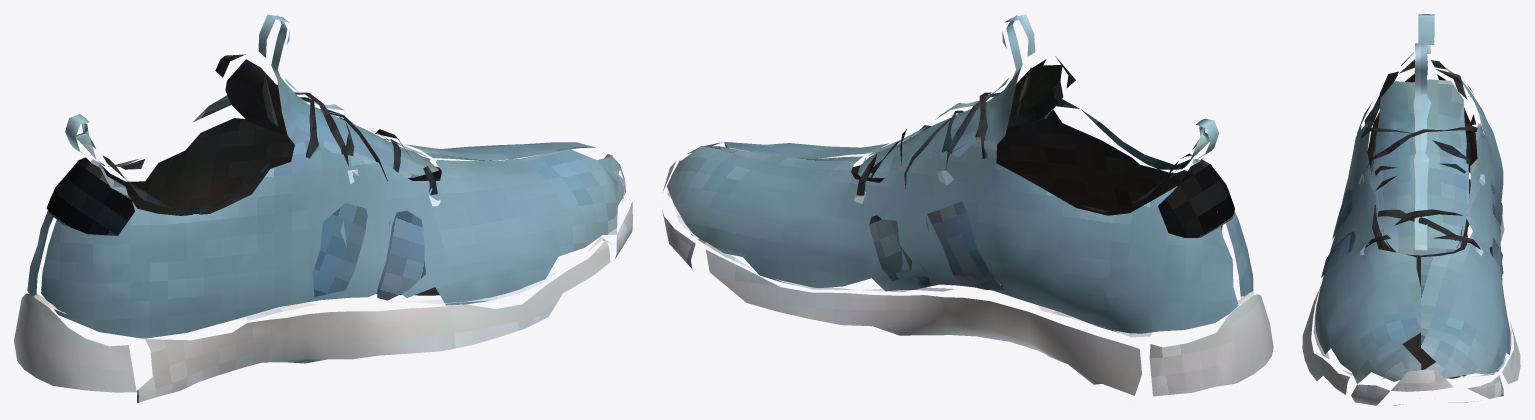
File: shoe-sky-far.glb
3 views of the same model, side by side, from view 1: azimuth 30°, elevation 25°; view 2: azimuth 150°, elevation 25°; view 3: azimuth 270°, elevation 25° (orthographic). The views are drawn at different scales.
Visible parts, largest first — view 1: Shoe; view 2: Shoe; view 3: Shoe.
Boxes of the visible parts, bbox=[...] form: Shoe: bbox=[14, 14, 632, 402]; Shoe: bbox=[662, 14, 1273, 396]; Shoe: bbox=[1302, 14, 1520, 405].
Bounding box in the file's own units: 0.2957 × 0.1512 × 0.1145.
Materials: 1 (1 with a texture image).
